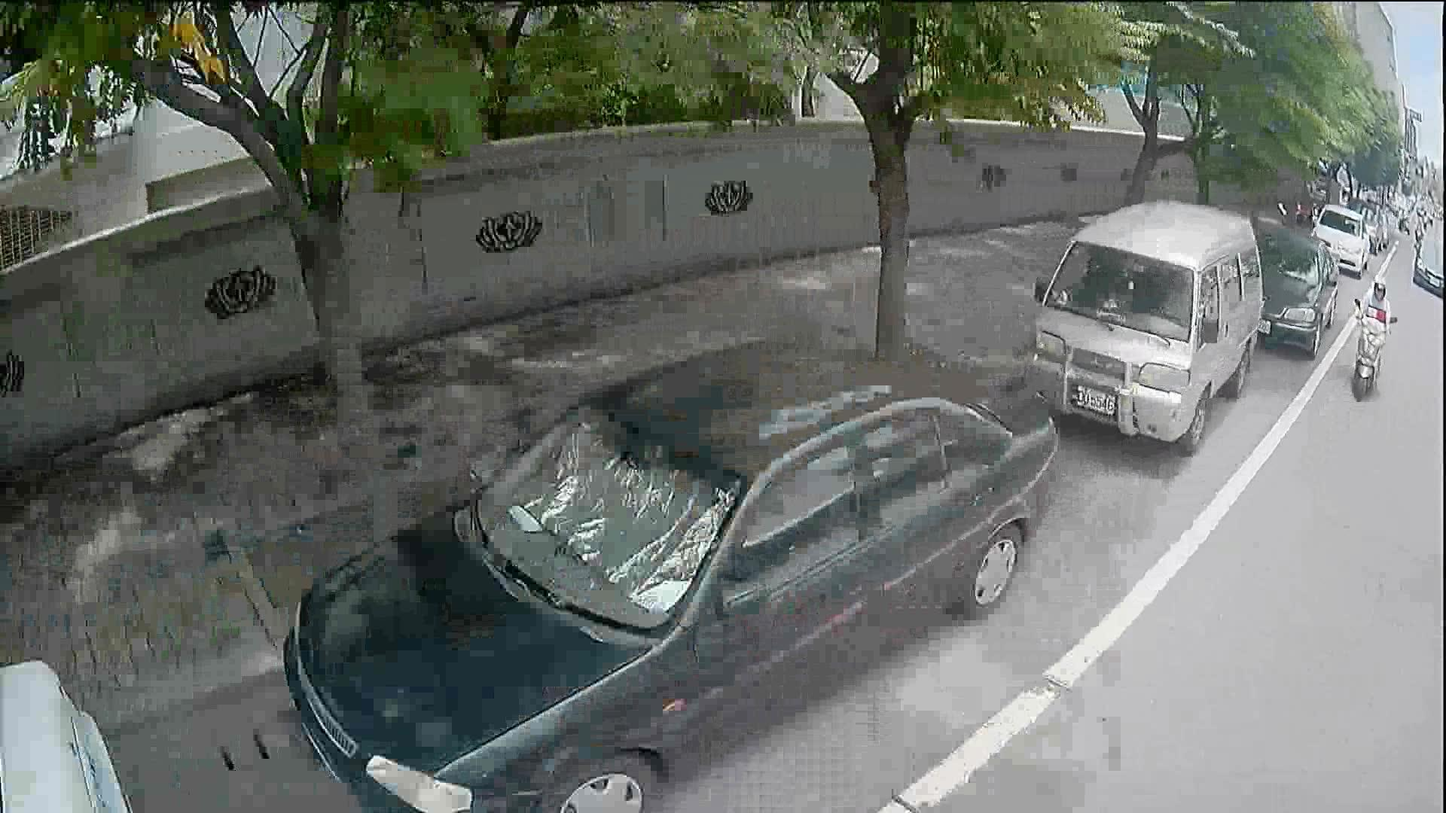person: (1356, 280, 1391, 331)
